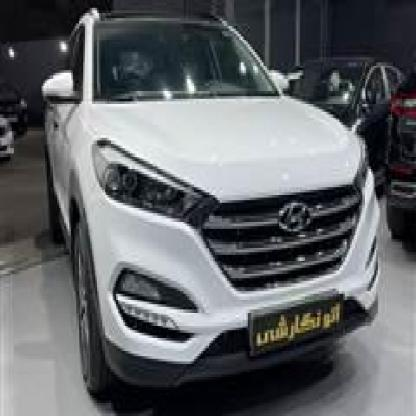Car: (36, 18, 385, 395), (269, 47, 397, 195), (383, 73, 416, 221), (0, 88, 29, 137), (0, 112, 17, 160)
